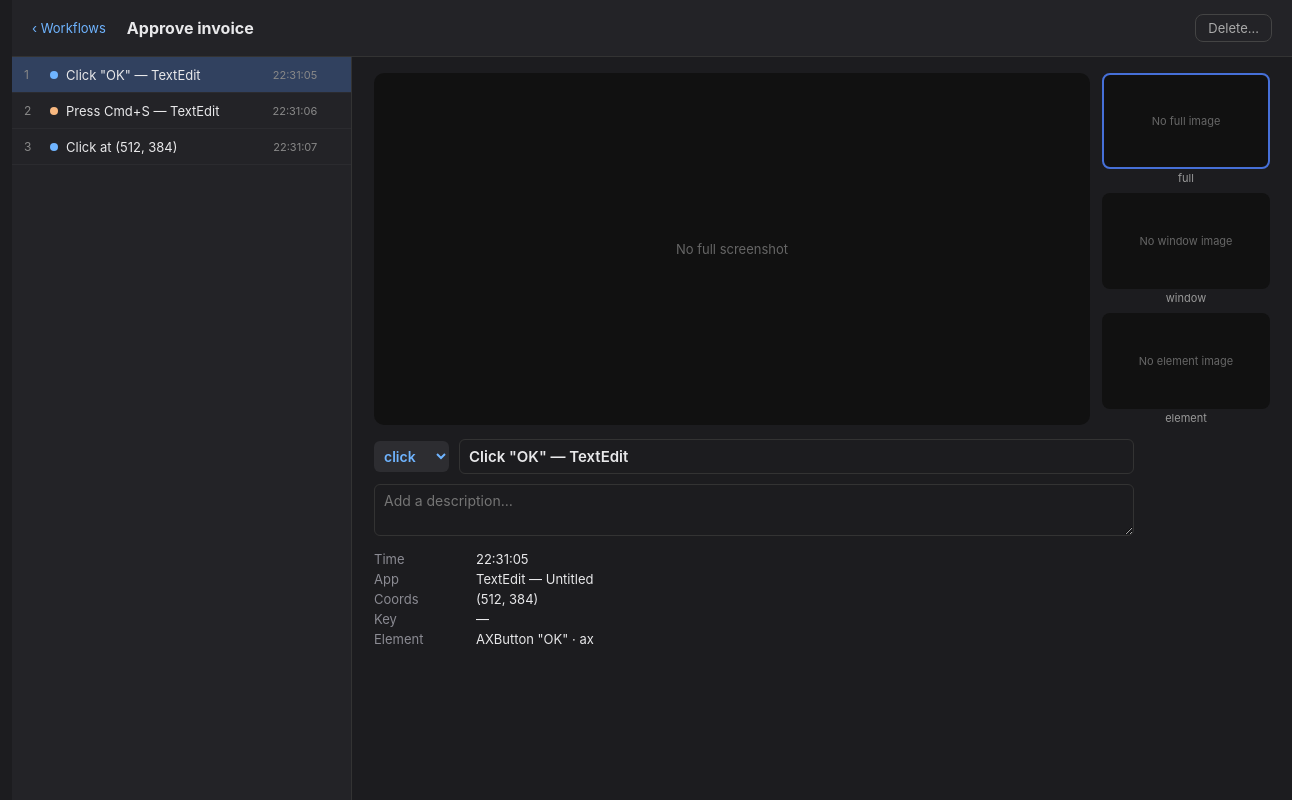
Test case: detail view rendering › renders the metadata grid for both element sources
Expected: the text "Click \"OK\" — TextEdit" is shown, 66,66 -> 201,82
Note: The key step: ax source without an element title, chord key.
Step 1. Click the text "Press Cmd+S — TextEdit" → (143, 110), box 66,102 -> 220,118
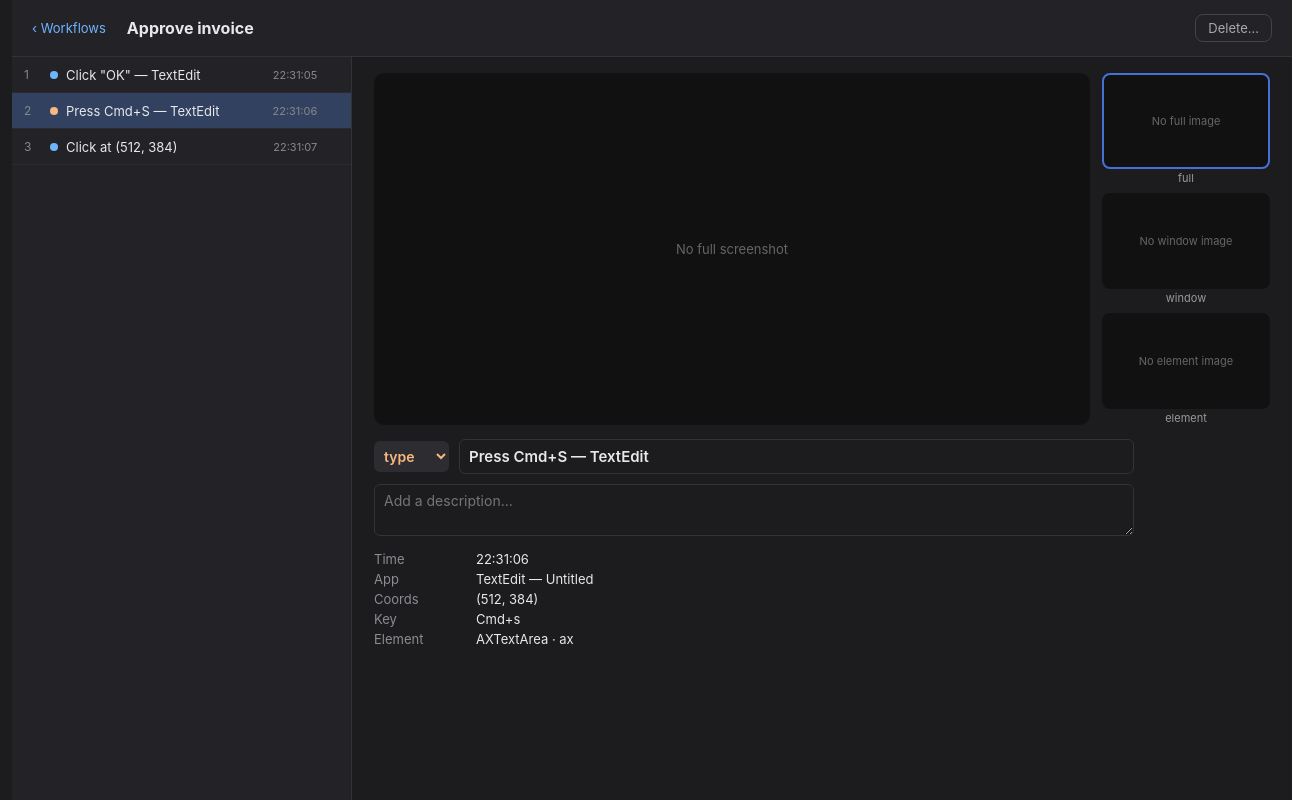
Expected: the text "Cmd+s" is shown, 476,611 -> 520,627
Expected: the text "AXTextArea · ax" is shown, 476,631 -> 574,647
Step 2. Click the text "Click at (512, 384)" → (122, 146), box 66,138 -> 178,154
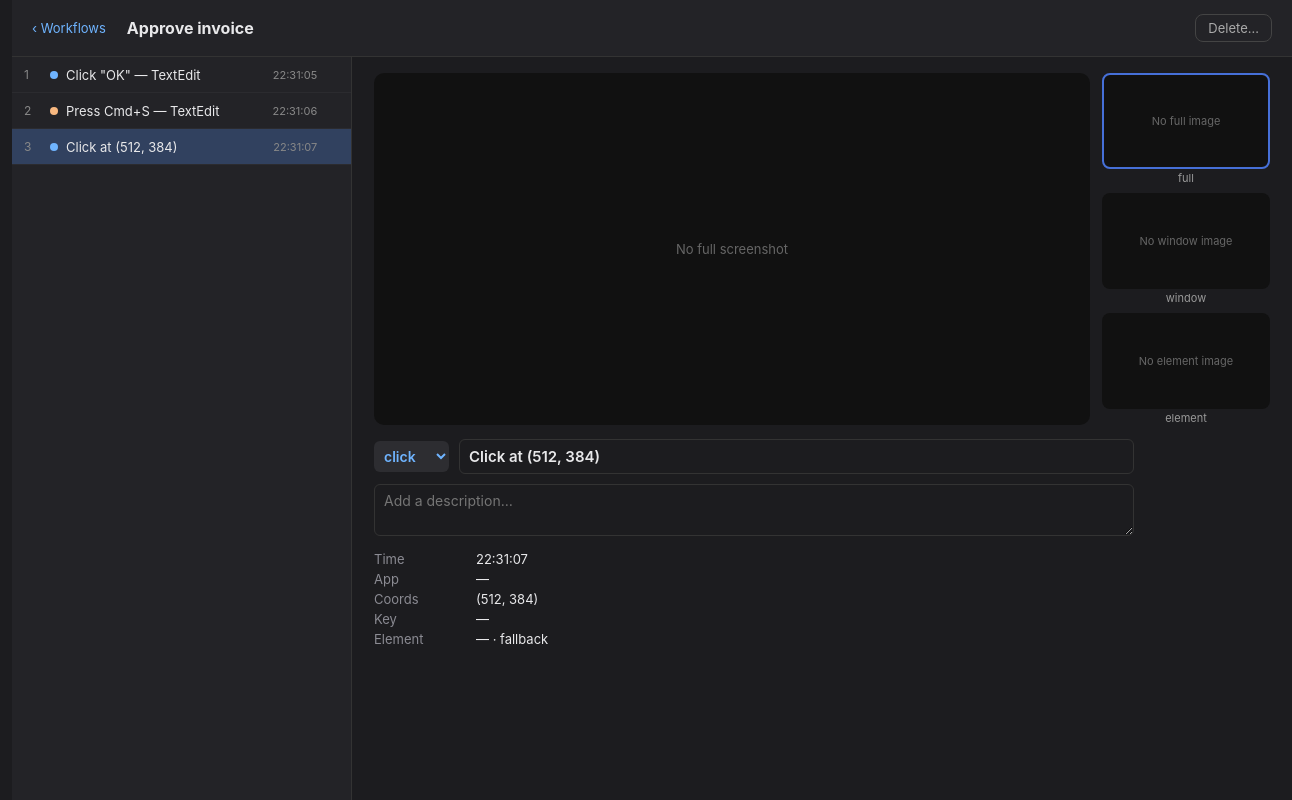
Expected: the text "Click \"OK\" — TextEdit" is shown, 66,66 -> 201,82
Expected: the text "— · fallback" is shown, 476,631 -> 548,647
